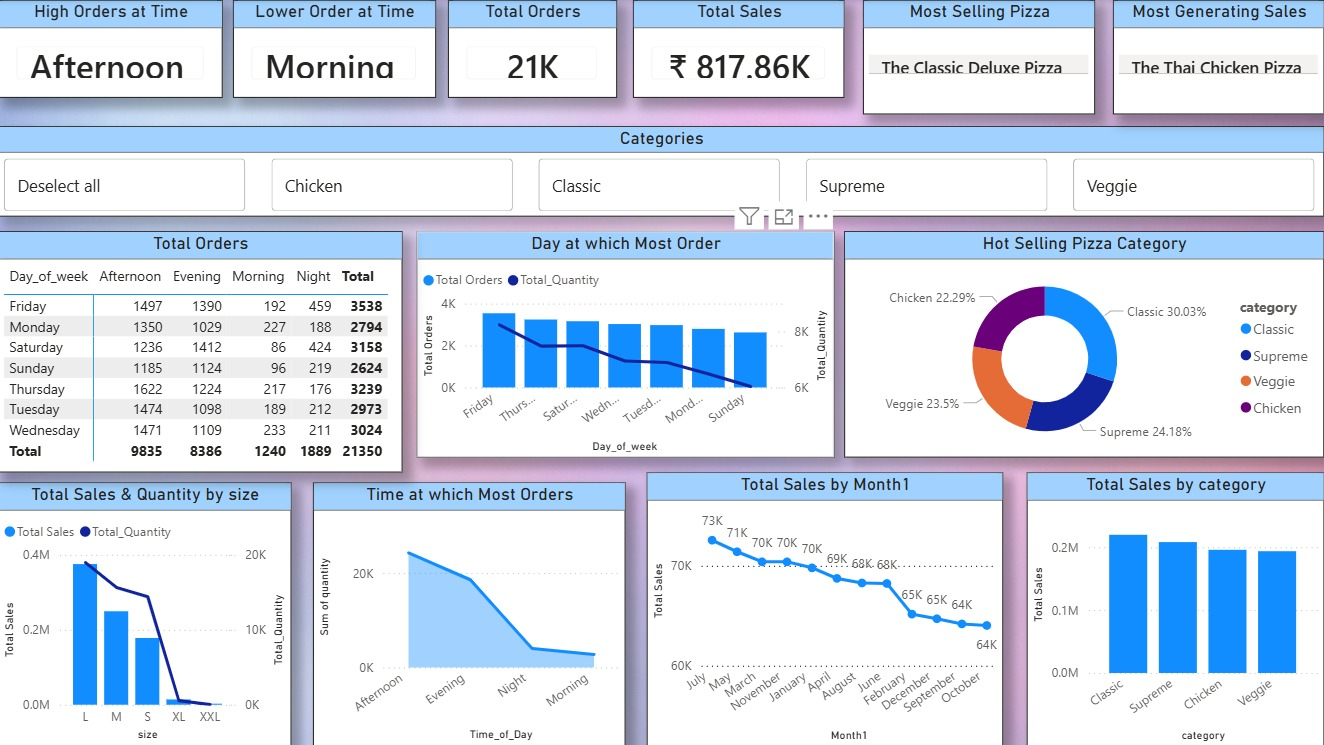

This screenshot's page, from the dashboard's own definition file:
{"tool":"powerbi","page":{"name":"Page 1","canvas":[1280,720],"ordinal":0},"visuals":[{"type":"cardVisual","title":"High Orders at Time","fields":{"Data":["orders.Highest_Time_of_Day"]},"box":[0,0,217.1,94.3],"z":0},{"type":"cardVisual","title":"Lower Order at Time","fields":{"Data":["orders.Lowest_Time_of_Day"]},"box":[227.1,0,195.7,94.3],"z":1000},{"type":"cardVisual","title":"Total Orders","fields":{"Data":["orders.Total Orders"]},"box":[434.3,0,162.9,94.3],"z":2000},{"type":"cardVisual","title":"Total Sales","fields":{"Data":["Pizza_Sales.Total Sales"]},"box":[612.9,0,204.3,94.3],"z":3000},{"type":"cardVisual","title":"Most Selling Pizza","fields":{"Rows":["pizza_types.name"]},"box":[834.3,0,224.3,110],"z":4000},{"type":"advancedSlicerVisual","title":"Categories","fields":{"Values":["pizza_types.category"]},"box":[0,121.2,1280,87.5],"z":5000},{"type":"lineStackedColumnComboChart","title":"Day at which Most Order","fields":{"Category":["orders.Day_of_week"],"Y":["orders.Total Orders"],"Y2":["orders_details.Total_Quantity"]},"box":[404.3,222.9,402.9,218.6],"z":6000},{"type":"cardVisual","title":"Most Generating Sales","fields":{"Rows":["pizza_types.name"]},"box":[1075.7,0,204.3,110],"z":7000},{"type":"areaChart","title":"Time at which Most Orders","fields":{"Category":["orders.Time_of_Day"],"Y":["Sum(orders_details.quantity)"]},"box":[304.3,465.7,301.4,254.3],"z":8000},{"type":"donutChart","title":"Hot Selling Pizza Category","fields":{"Category":["pizza_types.category"],"Y":["orders_details.Total_Quantity"]},"box":[817.1,222.9,462.9,218.6],"z":9000},{"type":"columnChart","fields":{"Category":["pizza_types.category"],"Y":["Pizza_Sales.Total Sales"]},"box":[992.9,455.7,287.1,264.3],"z":11000},{"type":"lineStackedColumnComboChart","title":"Total Sales & Quantity by size","fields":{"Category":["pizzas.size"],"Y":["Pizza_Sales.Total Sales"],"Y2":["orders_details.Total_Quantity"]},"box":[0,465.7,282.9,254.3],"z":12000},{"type":"lineChart","fields":{"Y":["Pizza_Sales.Total Sales"],"Category":["orders.Month1"]},"box":[625.7,455.7,344.3,264.3],"z":13000},{"type":"pivotTable","title":"Total Orders","fields":{"Rows":["orders.Day_of_week"],"Columns":["orders.Time_of_Day"],"Values":["orders.Total Orders"]},"box":[0,222.9,390,232.9],"z":14000}]}

Visuals, with their boxes in screenshot pixels (x1, y1, x2, y2), scaled from the page's 1280x720 canvas onto the 1324x745 screenshot:
"High Orders at Time" cardVisual: bbox=[0, 0, 225, 98]
"Lower Order at Time" cardVisual: bbox=[235, 0, 437, 98]
"Total Orders" cardVisual: bbox=[449, 0, 618, 98]
"Total Sales" cardVisual: bbox=[634, 0, 845, 98]
"Most Selling Pizza" cardVisual: bbox=[863, 0, 1095, 114]
"Categories" advancedSlicerVisual: bbox=[0, 125, 1323, 216]
"Day at which Most Order" lineStackedColumnComboChart: bbox=[418, 231, 835, 457]
"Most Generating Sales" cardVisual: bbox=[1113, 0, 1323, 114]
"Time at which Most Orders" areaChart: bbox=[315, 482, 627, 744]
"Hot Selling Pizza Category" donutChart: bbox=[845, 231, 1323, 457]
columnChart - pizza_types.category x Pizza_Sales.Total Sales: bbox=[1027, 472, 1323, 744]
"Total Sales & Quantity by size" lineStackedColumnComboChart: bbox=[0, 482, 293, 744]
lineChart - Pizza_Sales.Total Sales x orders.Month1: bbox=[647, 472, 1003, 744]
"Total Orders" pivotTable: bbox=[0, 231, 403, 472]
